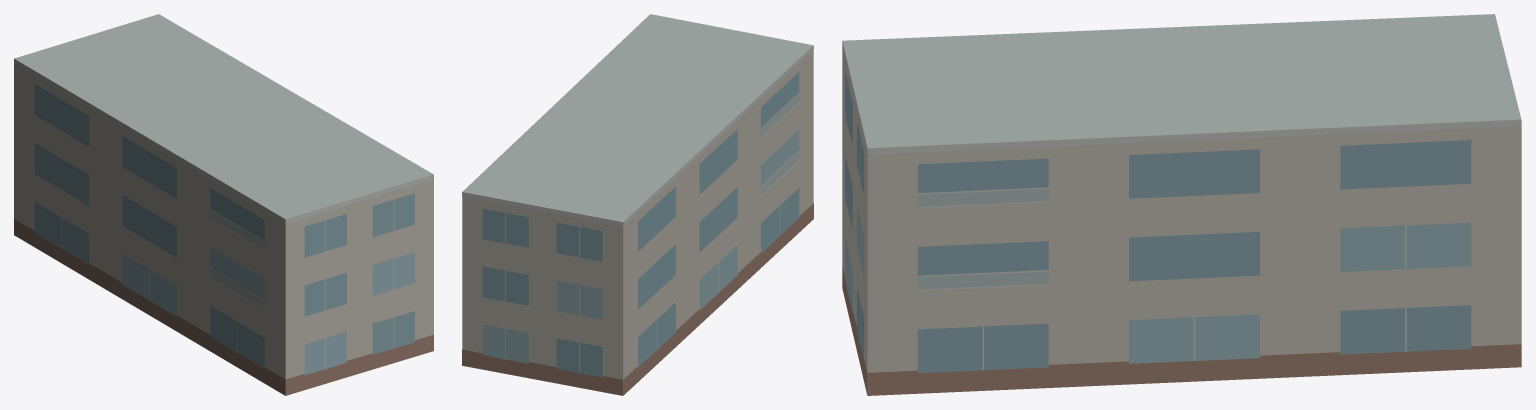
Rendered from survey-upis-32620409.glb.
3 renders of one model, left to right at view 1: azimuth 30°, elevation 25°; view 2: azimuth 150°, elevation 25°; view 3: azimuth 270°, elevation 25°, orthographic. The views are drawn at different scales.
Parts seen in each view (by area): view 1: survey-upis-32620409.tmp; view 2: survey-upis-32620409.tmp; view 3: survey-upis-32620409.tmp.
Boxes of the visible parts, x1=… form: survey-upis-32620409.tmp: x1=14, y1=14, x2=433, y2=395; survey-upis-32620409.tmp: x1=462, y1=14, x2=813, y2=395; survey-upis-32620409.tmp: x1=842, y1=14, x2=1521, y2=395.
Size of the model in its own units: 10.94 by 9.4 by 23.37.
